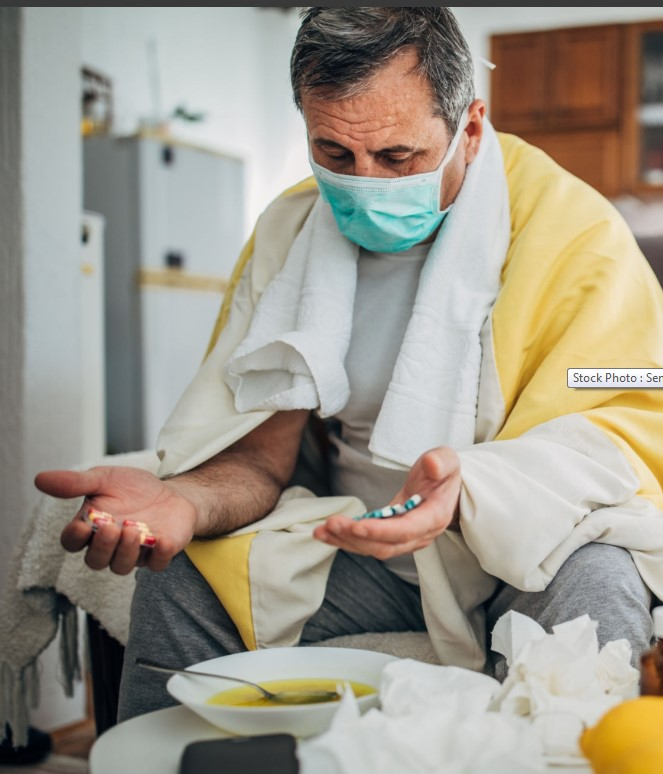face_with_mask: (285, 3, 486, 256)
